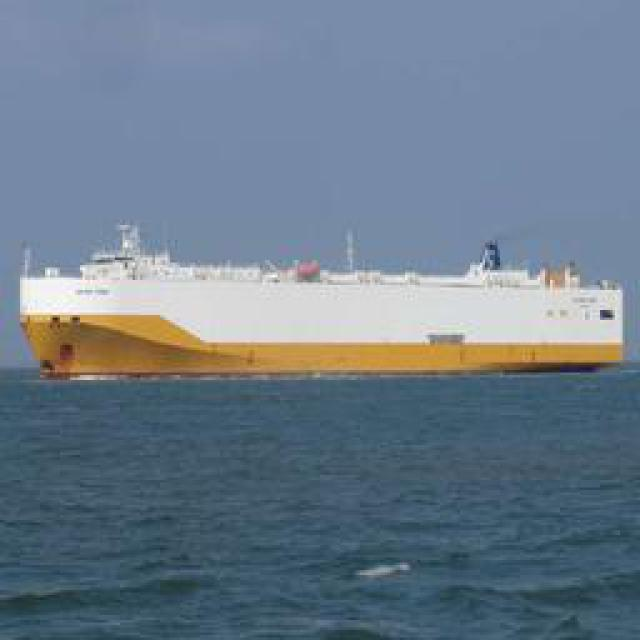Ship: (15, 238, 630, 386)
